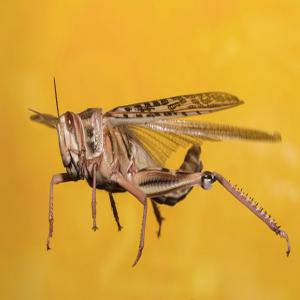locust: (33, 72, 290, 249)
